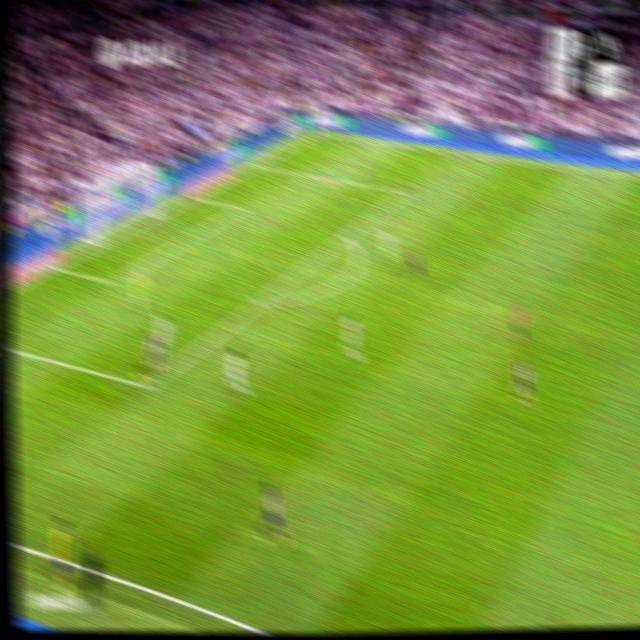bigarea_bottom_inner: (139, 375, 155, 398)
bigarea_top_inner: (398, 184, 409, 199)
bigarea_top_outter: (248, 156, 261, 172)
bottom_arc_area_intersection: (250, 291, 267, 312)
corner: (310, 125, 323, 138)
smallarea_bottom_inner: (104, 272, 120, 291)
smallarea_top_inner: (236, 201, 245, 213)
top_arc_area_intersection: (339, 226, 352, 244)
